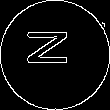N_E: (30, 35, 80, 75)
